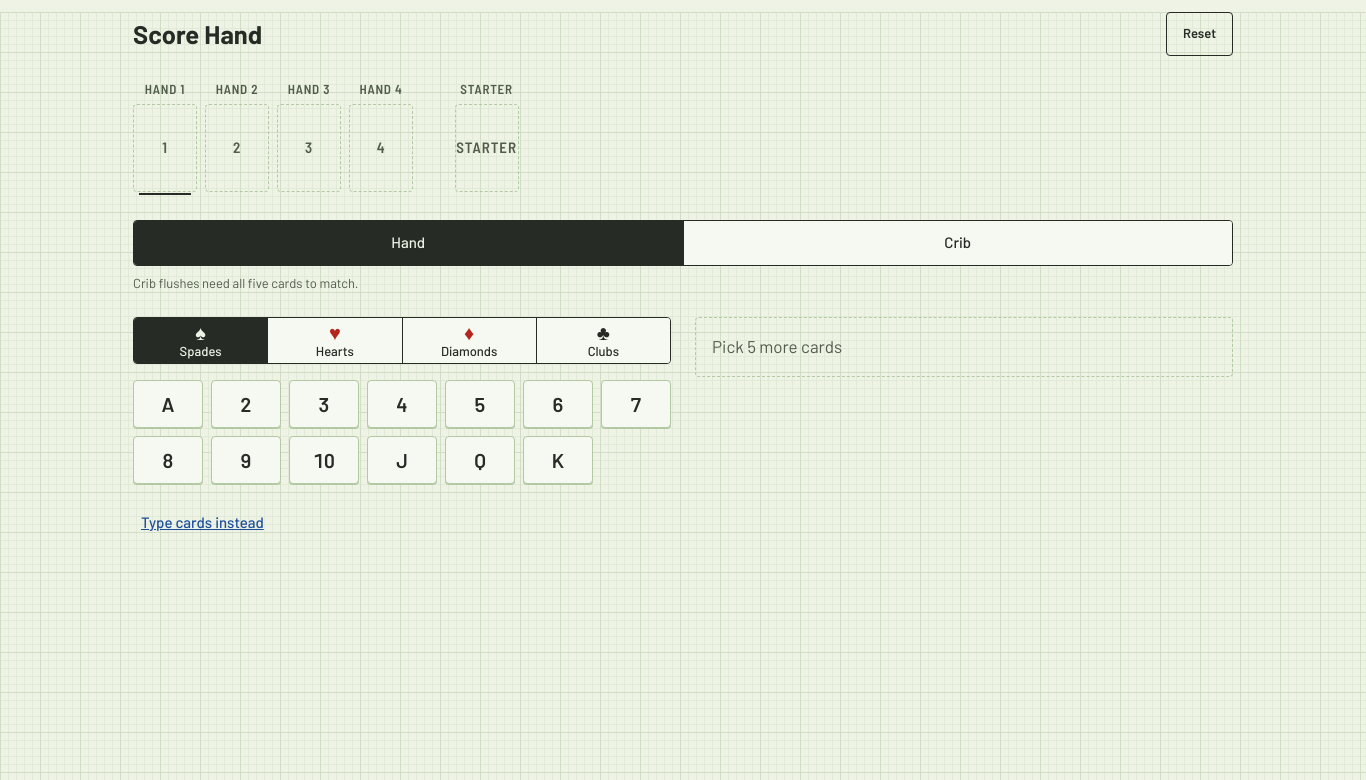
Test case: HandPage › lets the starter be picked explicitly out of fill order
Step 1. Click the button with aria-label "Starter: empty" → (487, 138), box [455,80,519,196]
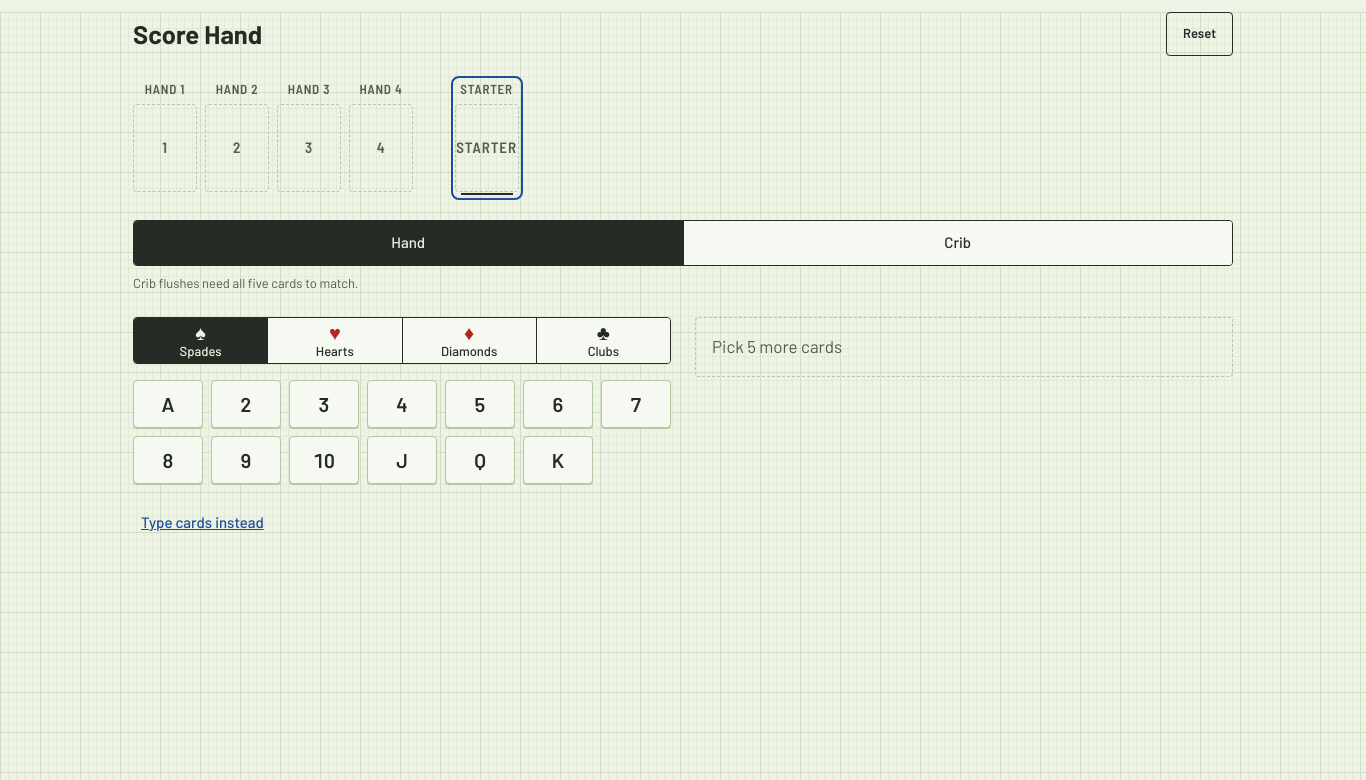
Step 2. Click the radio button labelled "♥ Hearts" → (335, 340), box [268,318,403,363]
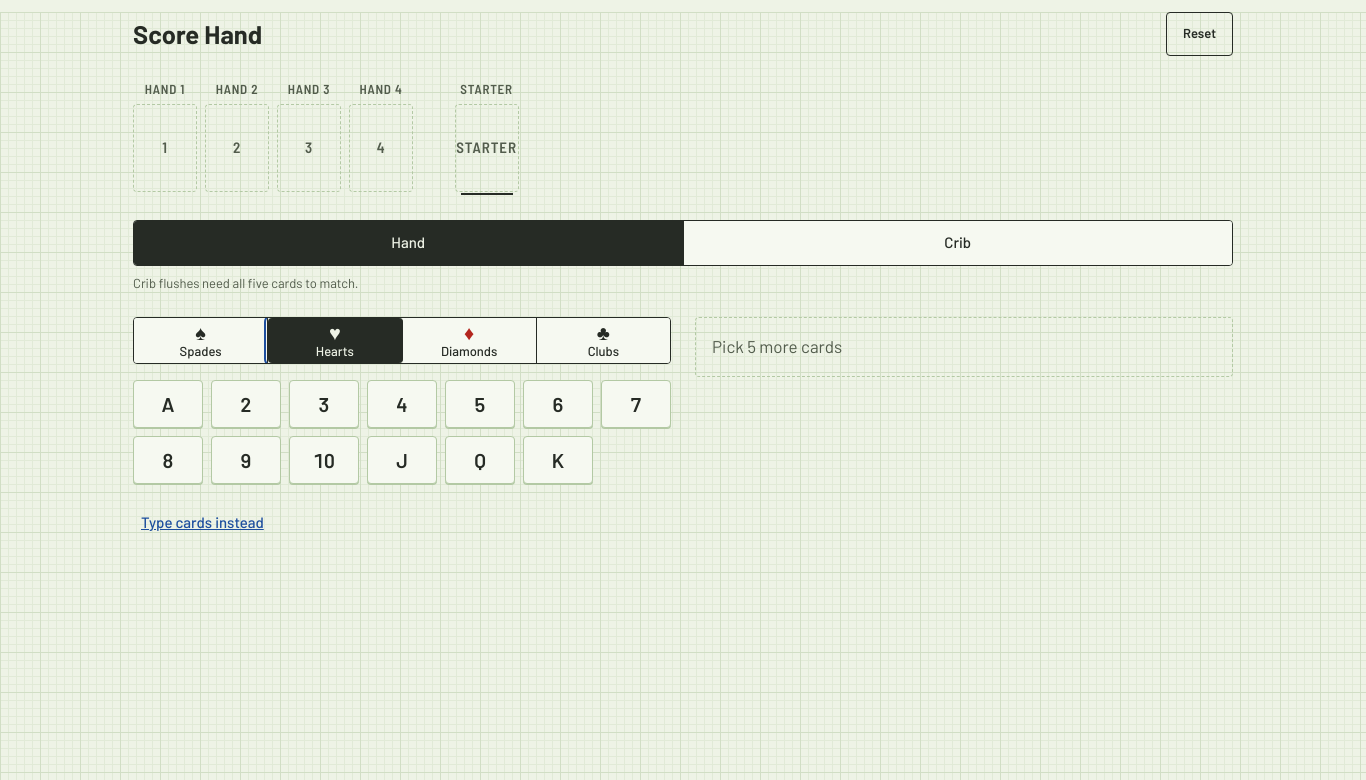
Step 3. Click the button "Q" → (480, 460), box [445,436,515,484]
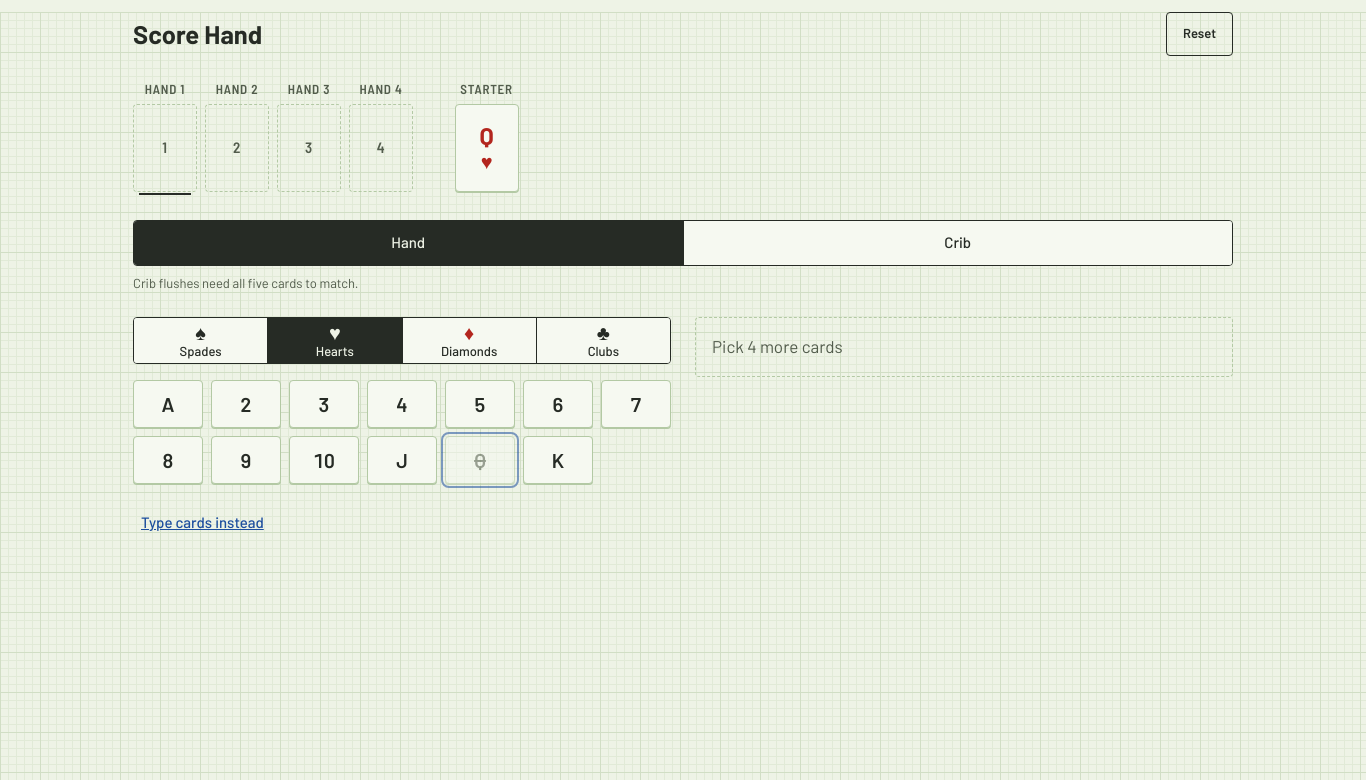
Check: the button with aria-label "Starter: Q♥" is shown, box [455,80,519,196]
